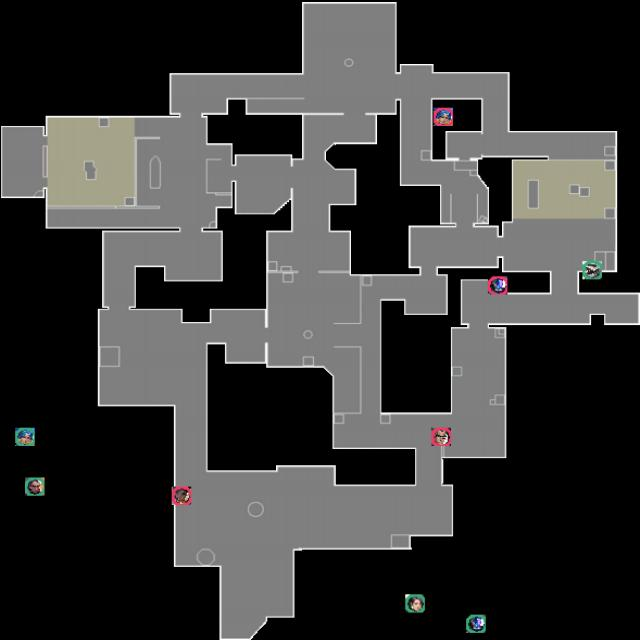atk_chamber: (431, 428, 451, 446)
atk_kayo: (488, 276, 507, 295)
atk_neon: (434, 108, 453, 126)
atk_phoenix: (172, 486, 191, 505)
def_cypher: (582, 261, 602, 279)
def_kayo: (466, 614, 486, 633)
def_neon: (15, 428, 35, 446)
def_reyna: (25, 477, 45, 496)
def_sage: (405, 594, 425, 613)
